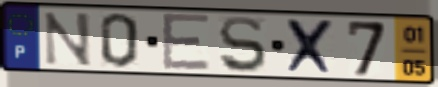0: (98, 10, 142, 71)
7: (345, 18, 388, 78)
E: (159, 11, 213, 73)
N: (42, 10, 95, 68)
S: (216, 14, 270, 75)
X: (284, 16, 339, 77)
